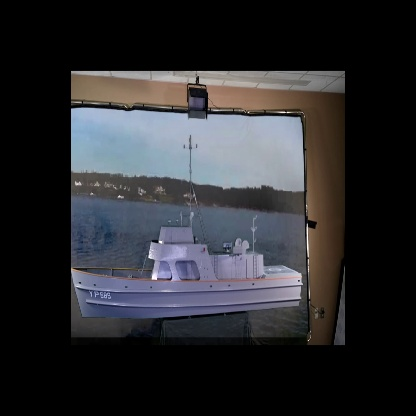YP689: (71, 124, 302, 320)
